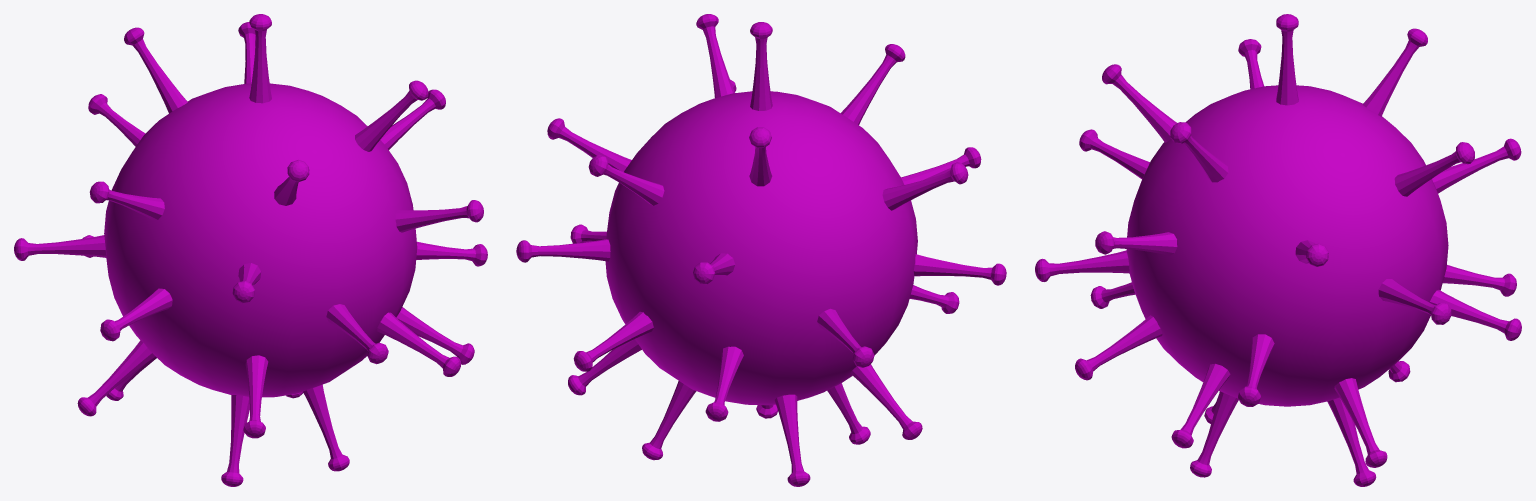
File: Virus.fbx
3 renders of one model, left to right at view 1: azimuth 30°, elevation 25°; view 2: azimuth 150°, elevation 25°; view 3: azimuth 270°, elevation 25°, orthographic. The views are drawn at different scales.
Visible parts, largest first — view 1: pSphere28; view 2: pSphere28; view 3: pSphere28.
Part boxes in pixels (x1,y1,x2,y2): pSphere28: (14,14,487,486); pSphere28: (516,14,1006,486); pSphere28: (1035,14,1521,486).
Size of the model in its own units: 2.99 by 3.04 by 3.02.
